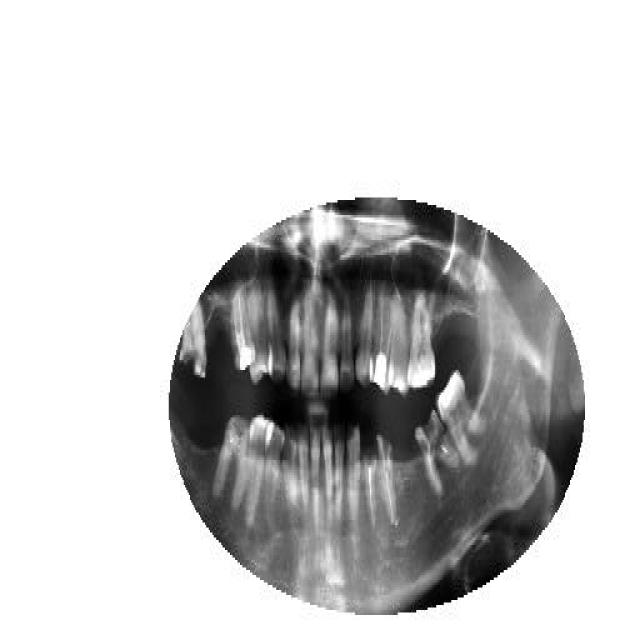Cavity: (414, 408, 460, 498), (212, 410, 252, 512), (180, 302, 208, 378), (377, 430, 398, 528), (345, 418, 361, 520), (362, 440, 378, 532)
Fillings: (408, 285, 440, 390)
Implant: (370, 283, 395, 395), (230, 288, 256, 372)
